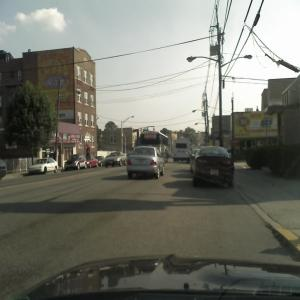Vehicle-registration-plate: (210, 170, 219, 178), (139, 160, 145, 164)
